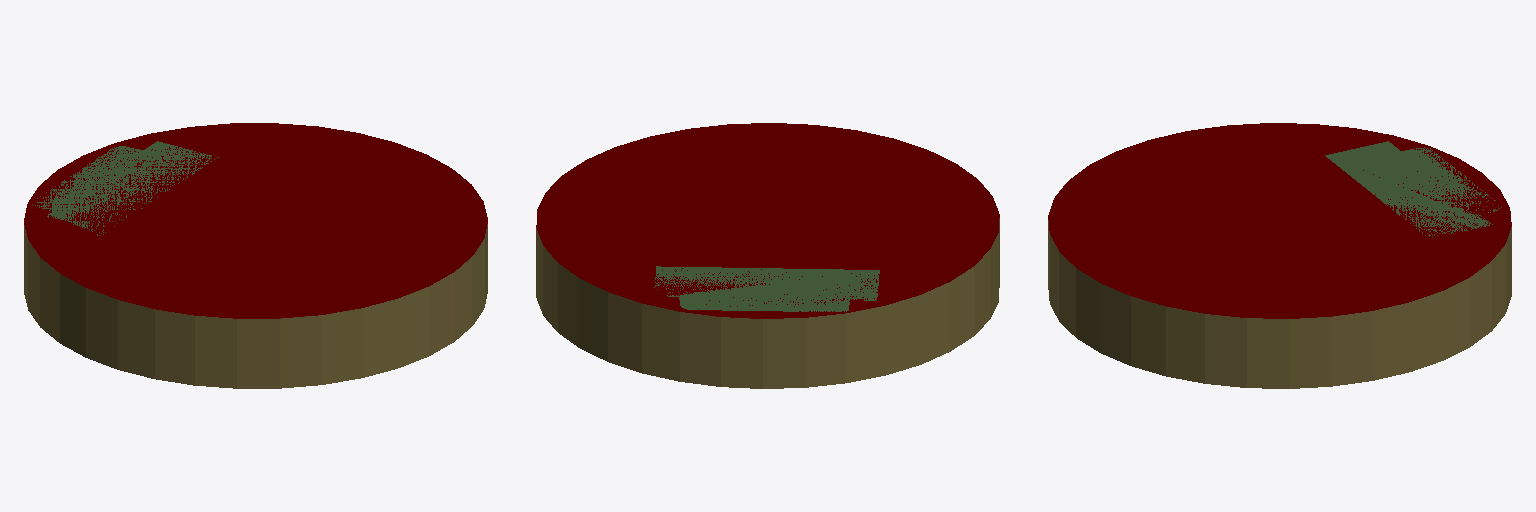
The picture shows the model from 3 angles: view 1: azimuth 30°, elevation 25°; view 2: azimuth 150°, elevation 25°; view 3: azimuth 270°, elevation 25°; orthographic projection.
Visible parts, largest first — view 1: Building Spitbank Fort; view 2: Building Spitbank Fort; view 3: Building Spitbank Fort.
Boxes of the visible parts, x1,y1,x2,y2 form: Building Spitbank Fort: [24, 123, 487, 388]; Building Spitbank Fort: [536, 123, 999, 388]; Building Spitbank Fort: [1048, 123, 1511, 388].
Bounding box in the file's own units: 45.06 × 7.5 × 45.03.